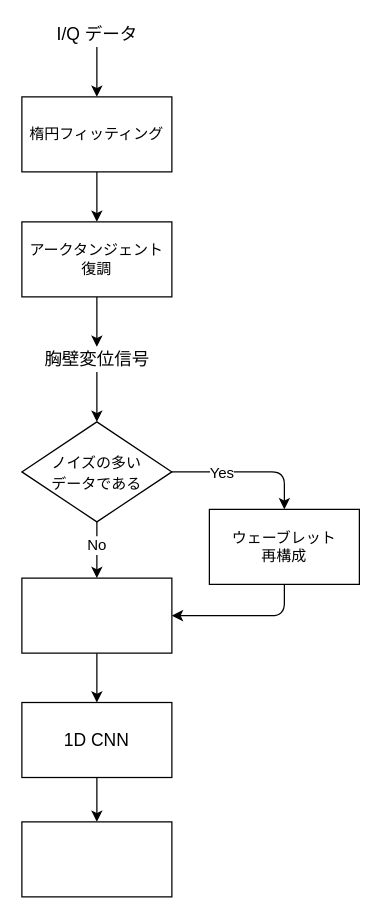
This 381x919 diagram has some shape labels left out. The shapes that lost their labels are listed below. From the top down, each one's centre as x and y in pixels, then its label:
[96,615]: セグメンテーション
[96,859]: Acc 算出
